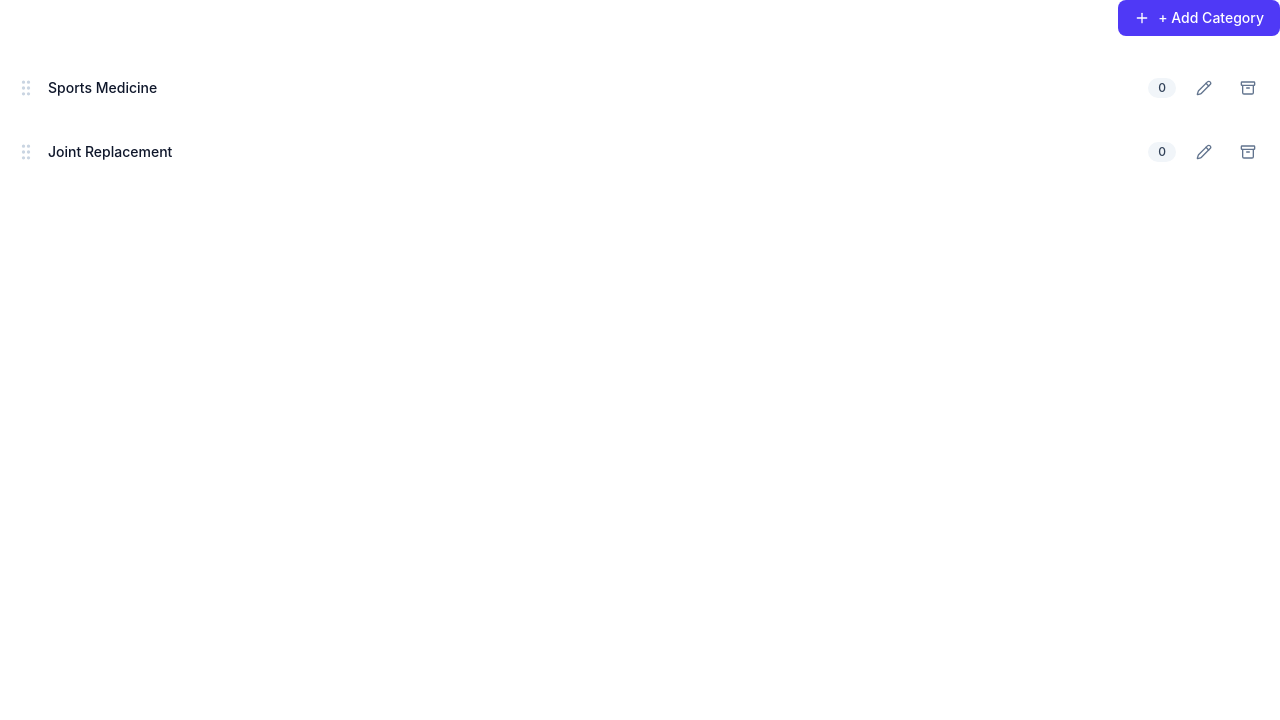
Scenario: CategoriesPage modal state › opens the edit dialog prefilled with that row’s name
Expected: the text "Joint Replacement" is shown, [48,143,172,160]
Click the button named "edit category" in the row of "Joint Replacement".
click(1204, 152)  # box [1188,136,1220,168]
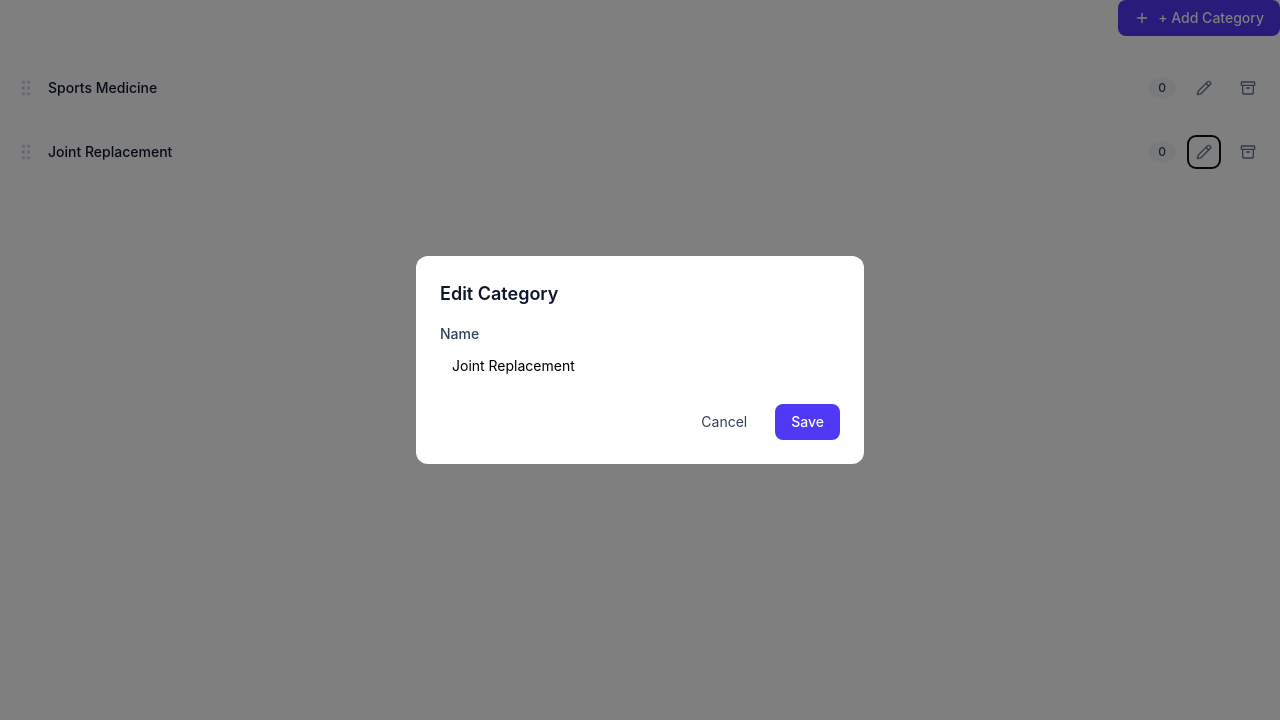
Expected: the field holds "Joint Replacement", [440,348,840,384]
